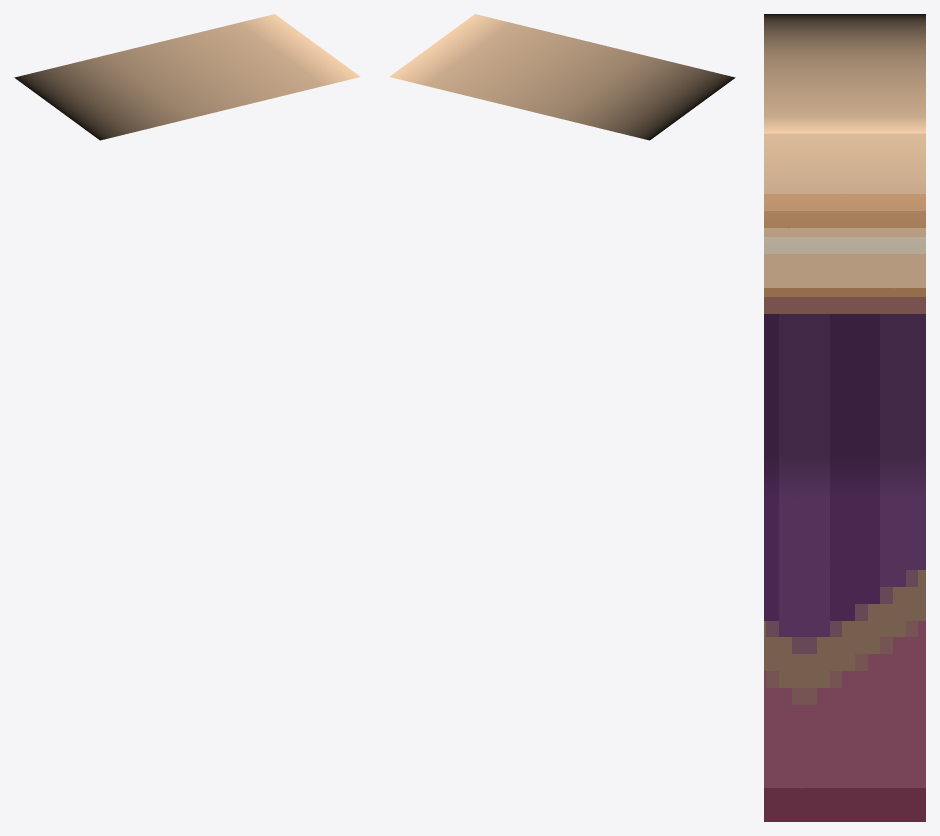
The picture shows the model from 3 angles, left to right: view 1: azimuth 30°, elevation 25°; view 2: azimuth 150°, elevation 25°; view 3: azimuth 270°, elevation 25°; orthographic projection. The views are drawn at different scales.
Size of the model in its own units: 1.75 by 4.75 by 1.
3 materials, 3 textured.
